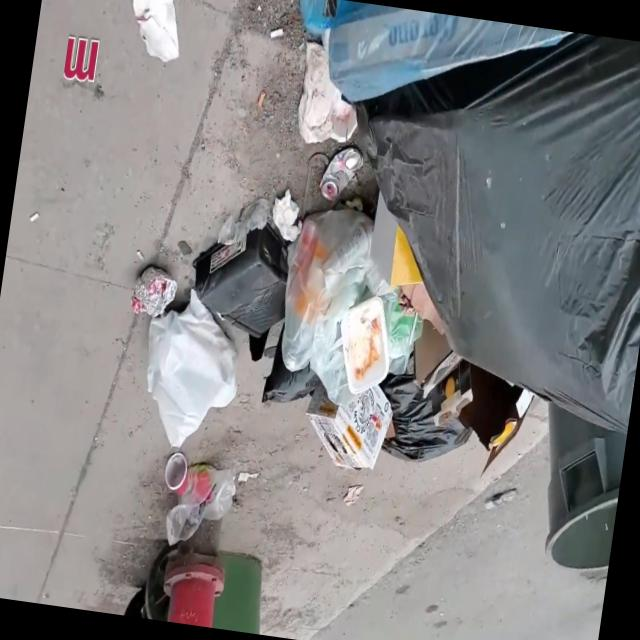high trash: (131, 0, 640, 469)
less trash: (165, 453, 236, 546), (133, 0, 179, 63), (485, 489, 517, 510), (343, 485, 363, 505)
